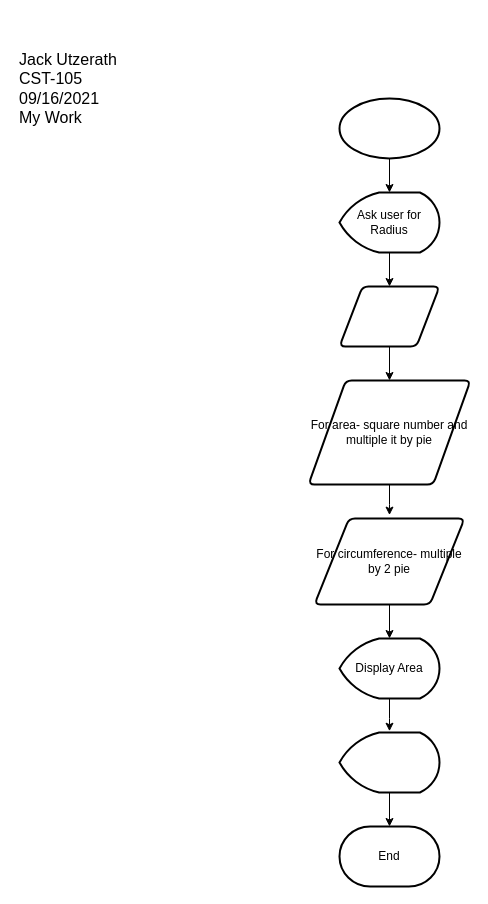
The diagram is 488 pixels wide and 904 high, and some of its shapes have lost their labels. Here are the shapes that lost their labels. From the top down, the centre of each, then its label:
At (x=389, y=128): "Start".
At (x=389, y=316): "Get radius from keyboard identifier".
At (x=389, y=762): "Display Circumference".
